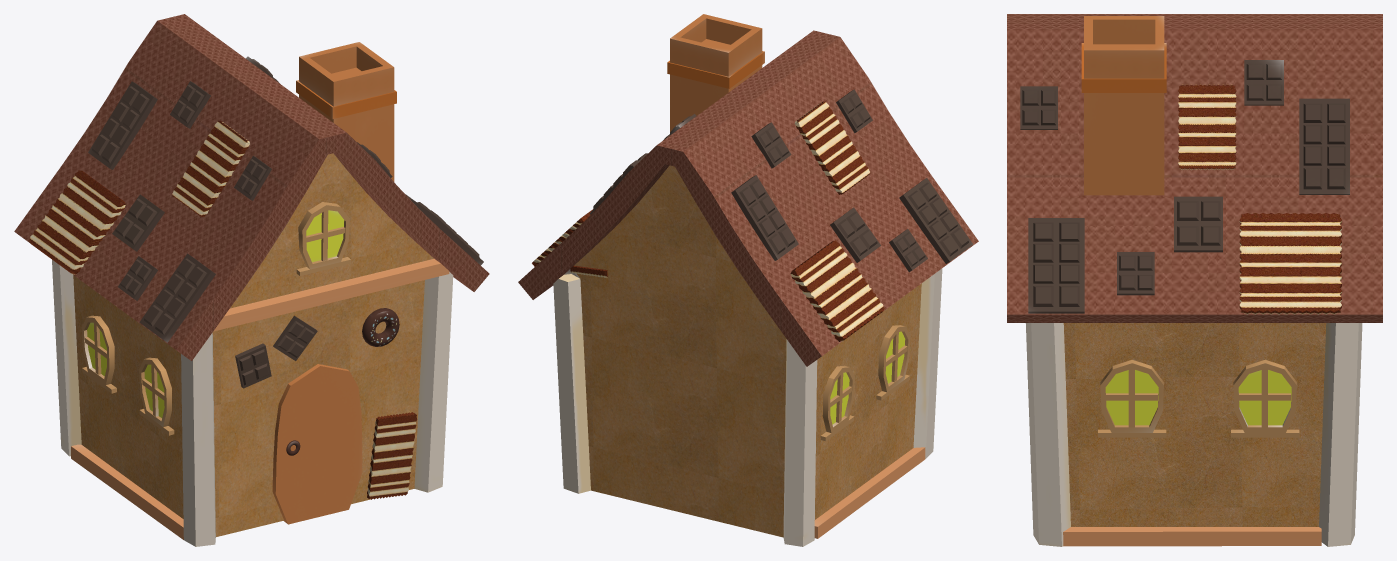
Rendered from house.fbx.
3 renders of one model, left to right at view 1: azimuth 30°, elevation 25°; view 2: azimuth 150°, elevation 25°; view 3: azimuth 270°, elevation 25°, orthographic. The views are drawn at different scales.
Parts seen in each view (by area): view 1: pCube29, pCube5, polySurface8, pCube30; view 2: pCube29, pCube5, polySurface8; view 3: pCube29, pCube5, polySurface9.
Boxes of the visible parts, x1=… form: pCube29: x1=14, y1=14, x2=489, y2=546; pCube5: x1=28, y1=170, x2=126, y2=274; polySurface8: x1=172, y1=121, x2=249, y2=216; pCube30: x1=367, y1=412, x2=416, y2=499; pCube29: x1=518, y1=14, x2=978, y2=546; pCube5: x1=532, y1=209, x2=884, y2=341; polySurface8: x1=794, y1=101, x2=869, y2=194; pCube29: x1=1007, y1=14, x2=1382, y2=546; pCube5: x1=1239, y1=213, x2=1341, y2=314; polySurface9: x1=1178, y1=84, x2=1236, y2=170.
Bounding box in the file's own units: 7.7 × 9.41 × 6.68.
